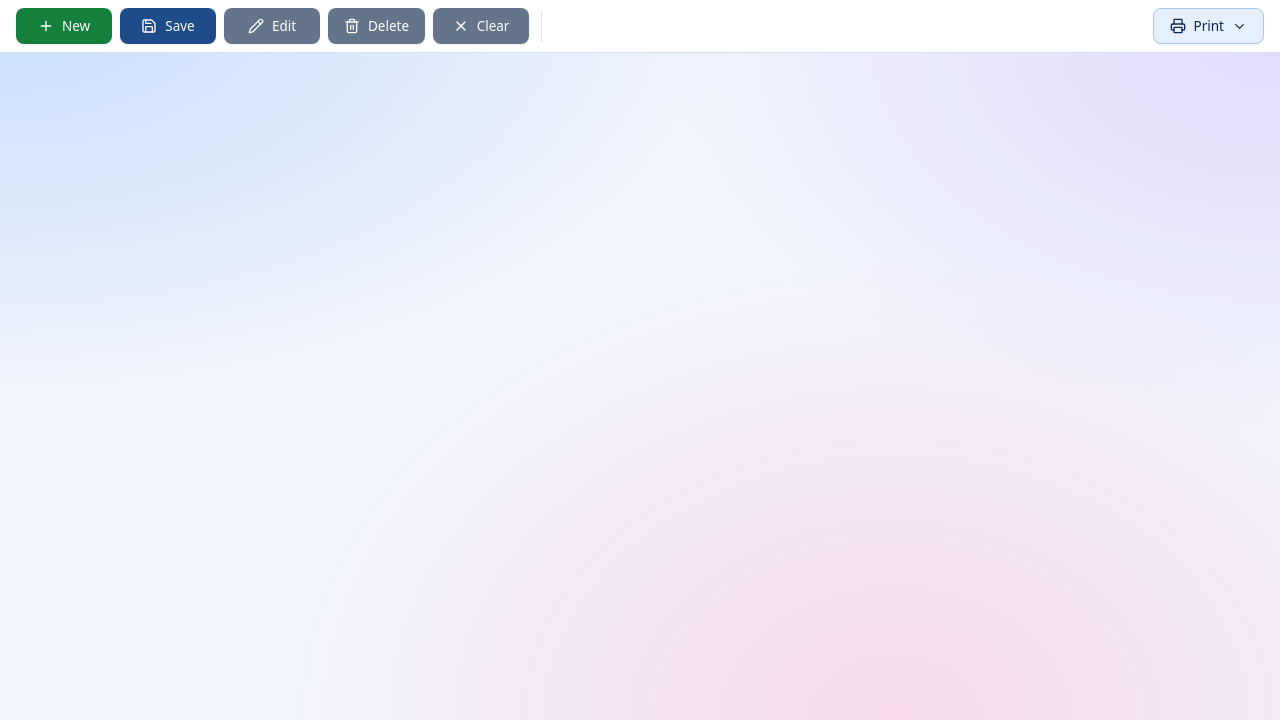
ActionToolbar Print menu › Escape closes the menu without exporting
Step 1. Click the button "Print" → {"x": 1208, "y": 26}, box x1=1152 y1=8 x2=1264 y2=44
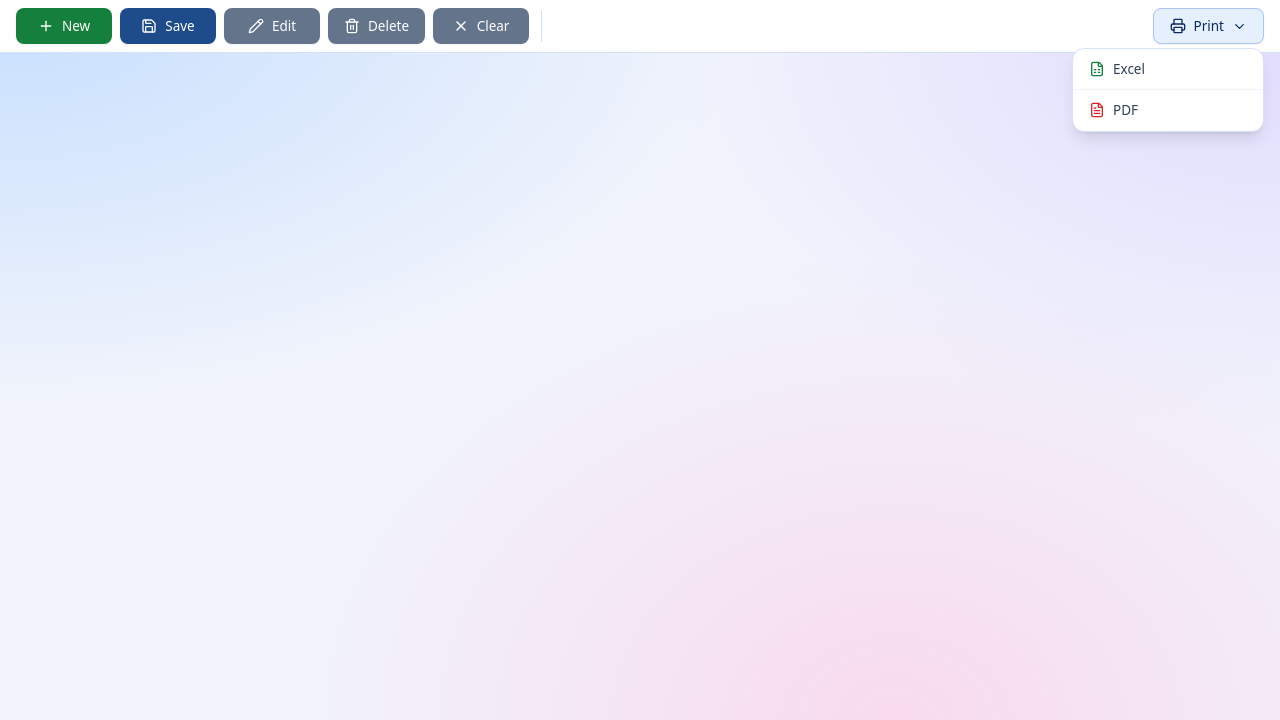
Step 2. Press Escape
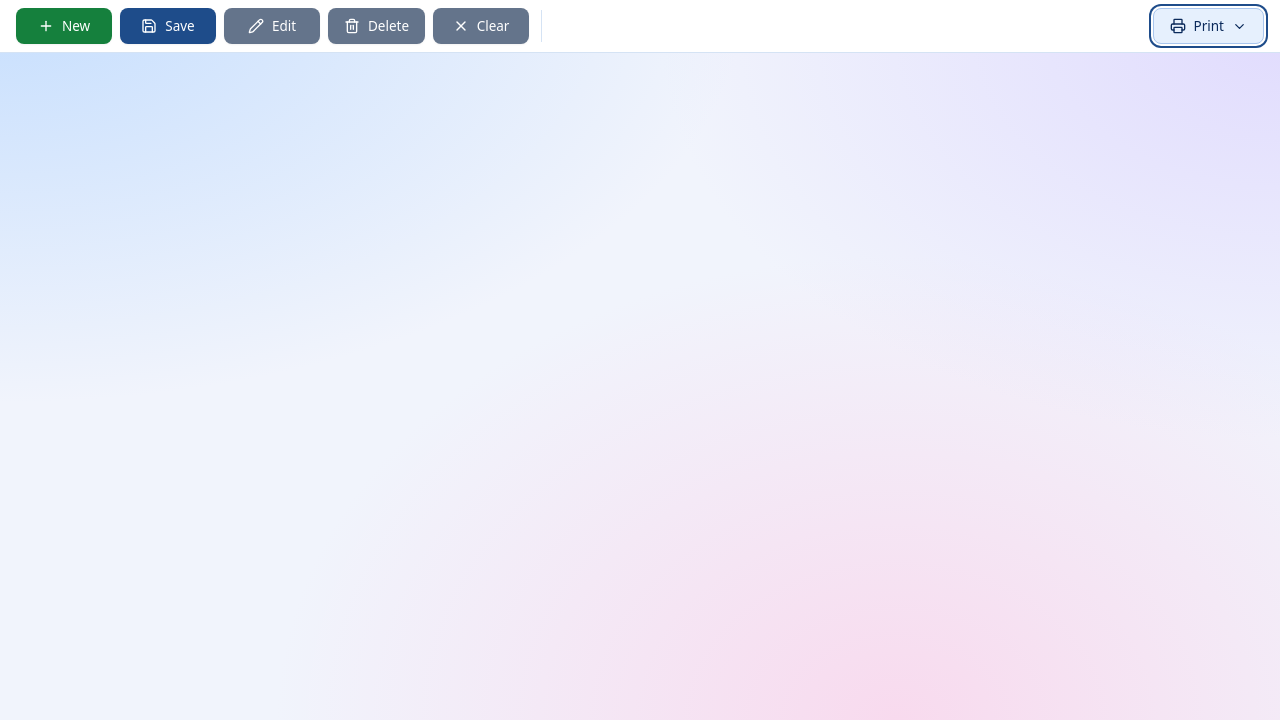
Expected: the menu is gone
